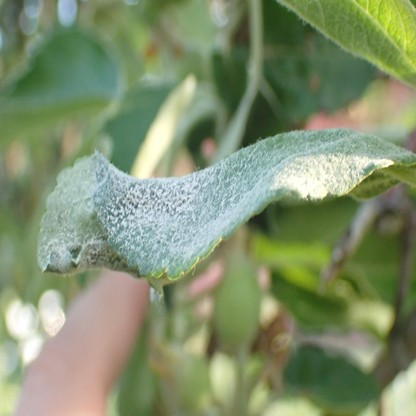powdery_mildew: (35, 132, 416, 287)
